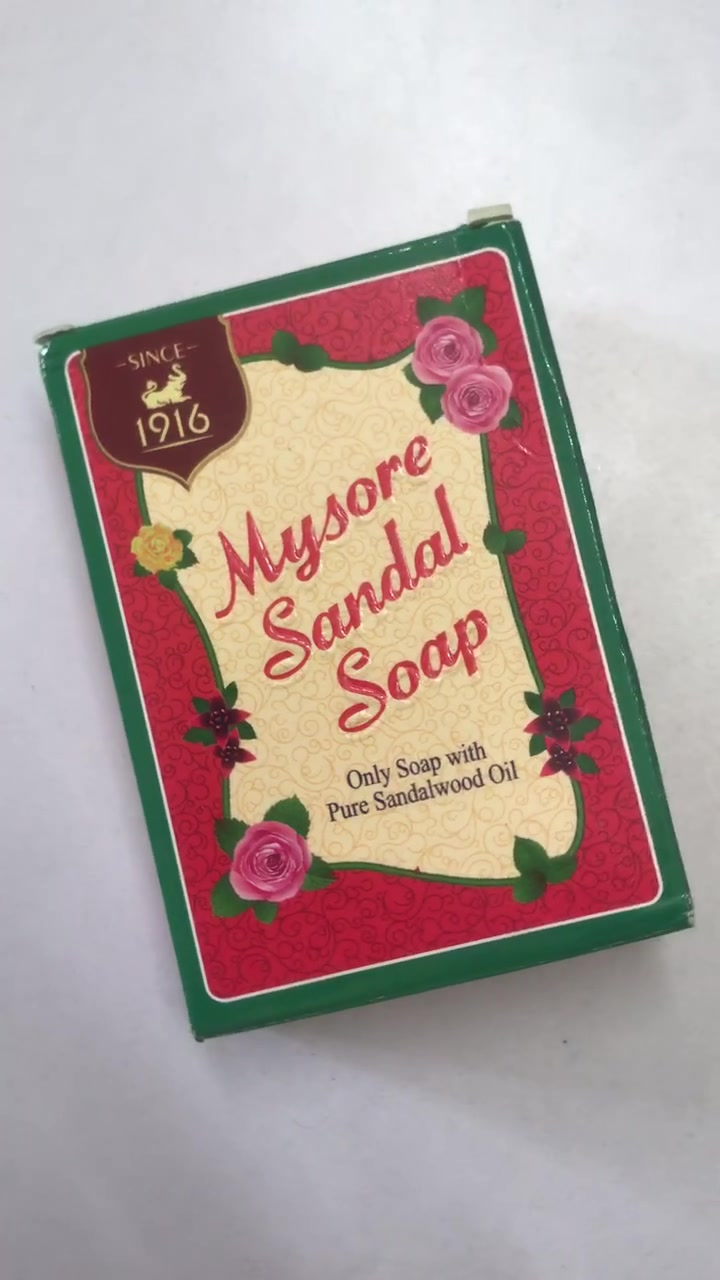mysore sandal soap: (39, 220, 696, 1049)
